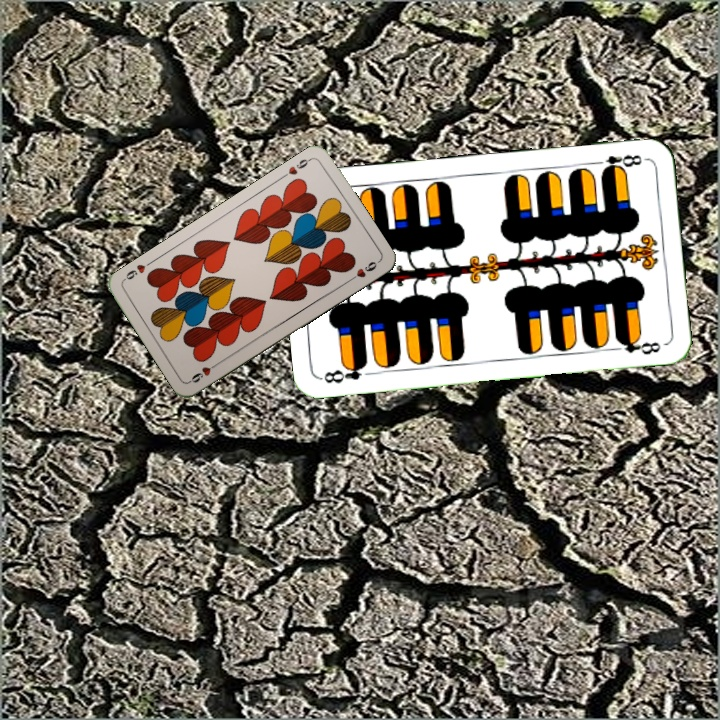E8: (318, 358, 370, 386), (589, 151, 644, 176)
H9: (186, 358, 222, 385), (278, 154, 314, 181)
